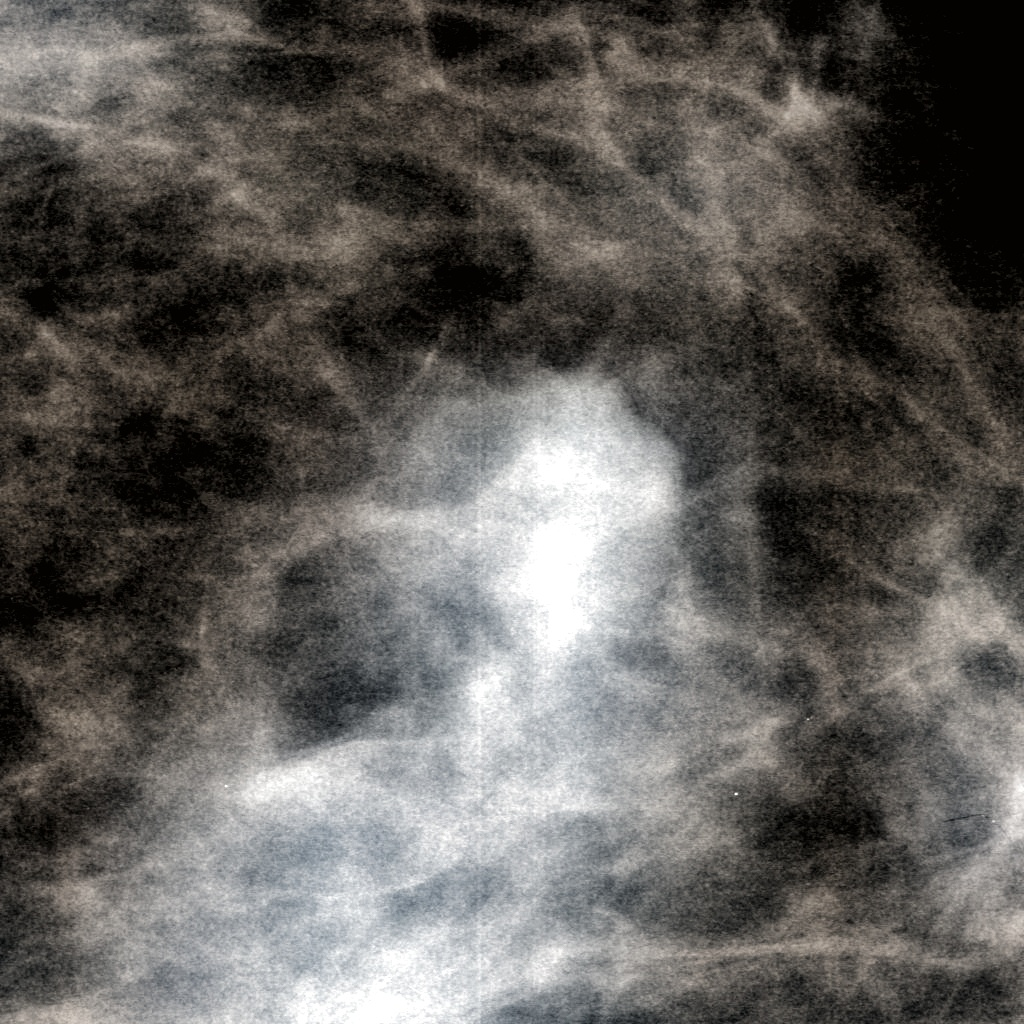tumor: (327, 346, 697, 678)
